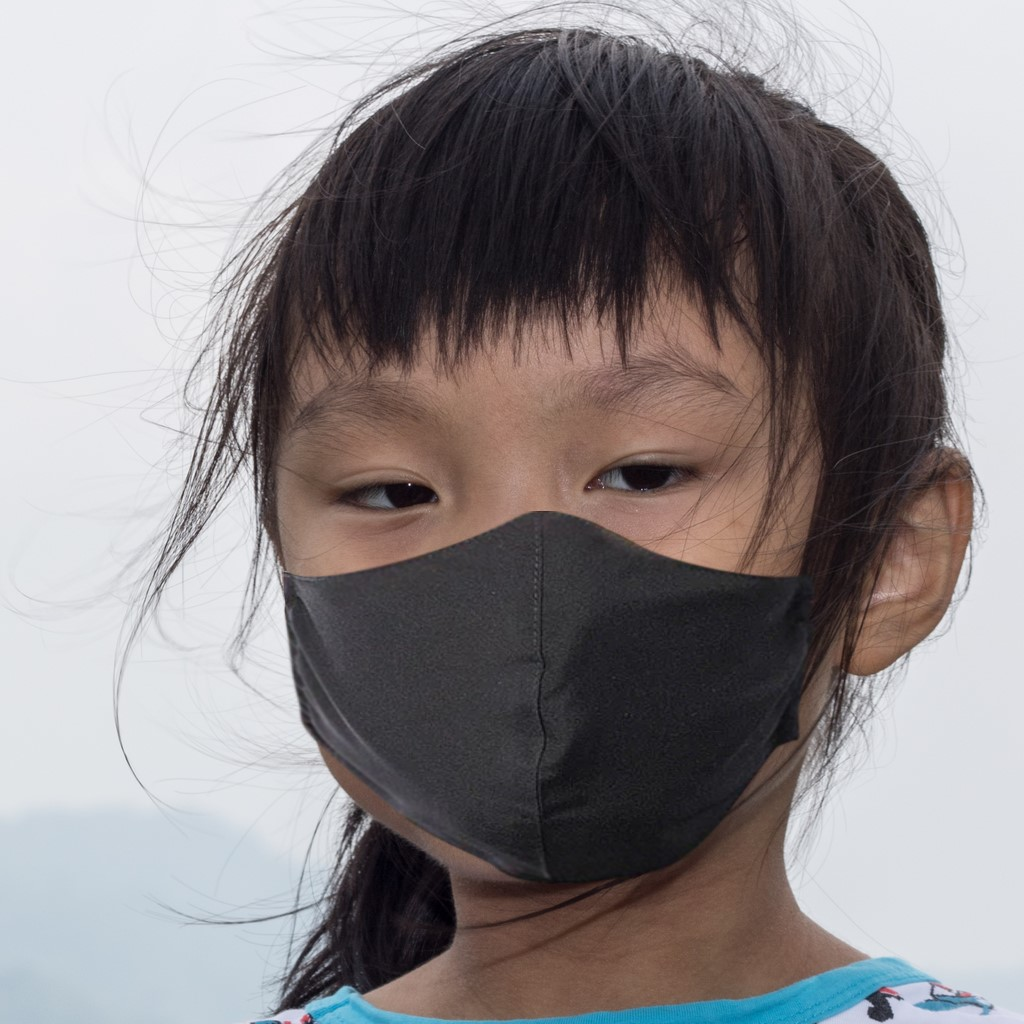con_mascara: (205, 141, 932, 908)
